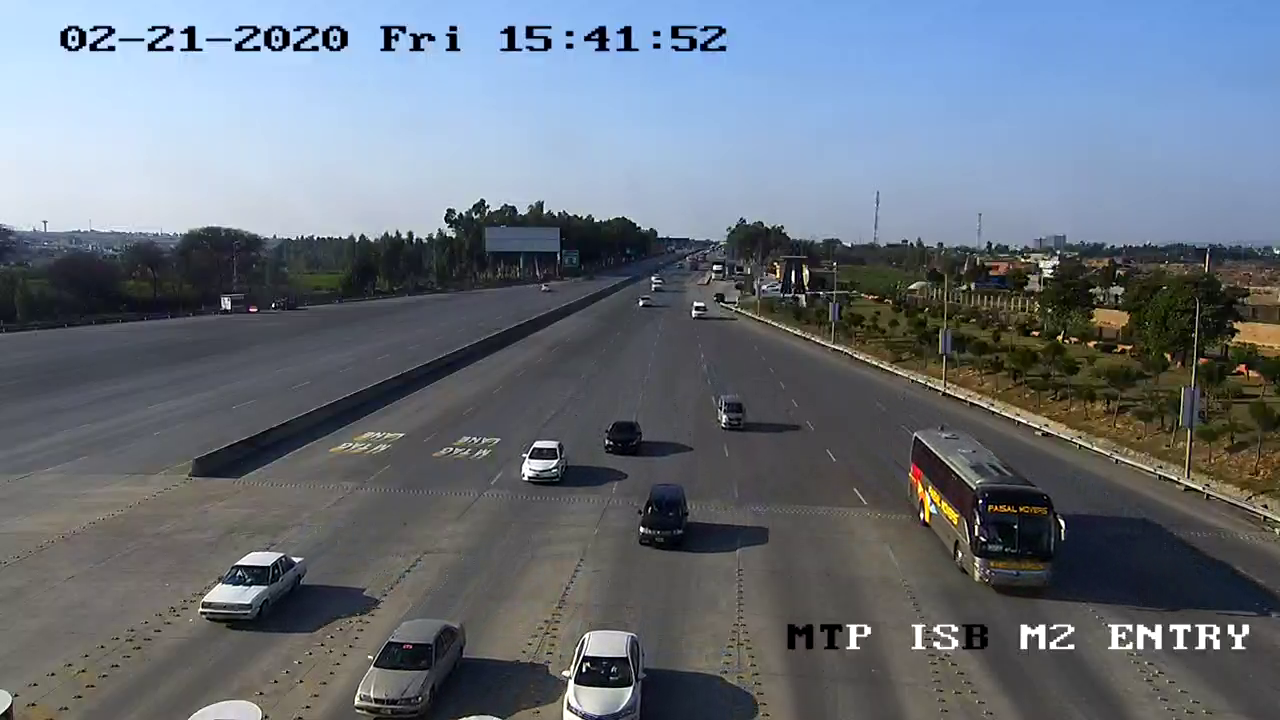f1: (339, 612, 472, 720), (194, 532, 312, 631), (551, 618, 661, 720), (625, 481, 703, 558), (512, 428, 574, 492), (599, 411, 651, 463), (703, 386, 757, 435)
f4: (900, 414, 1072, 606)
